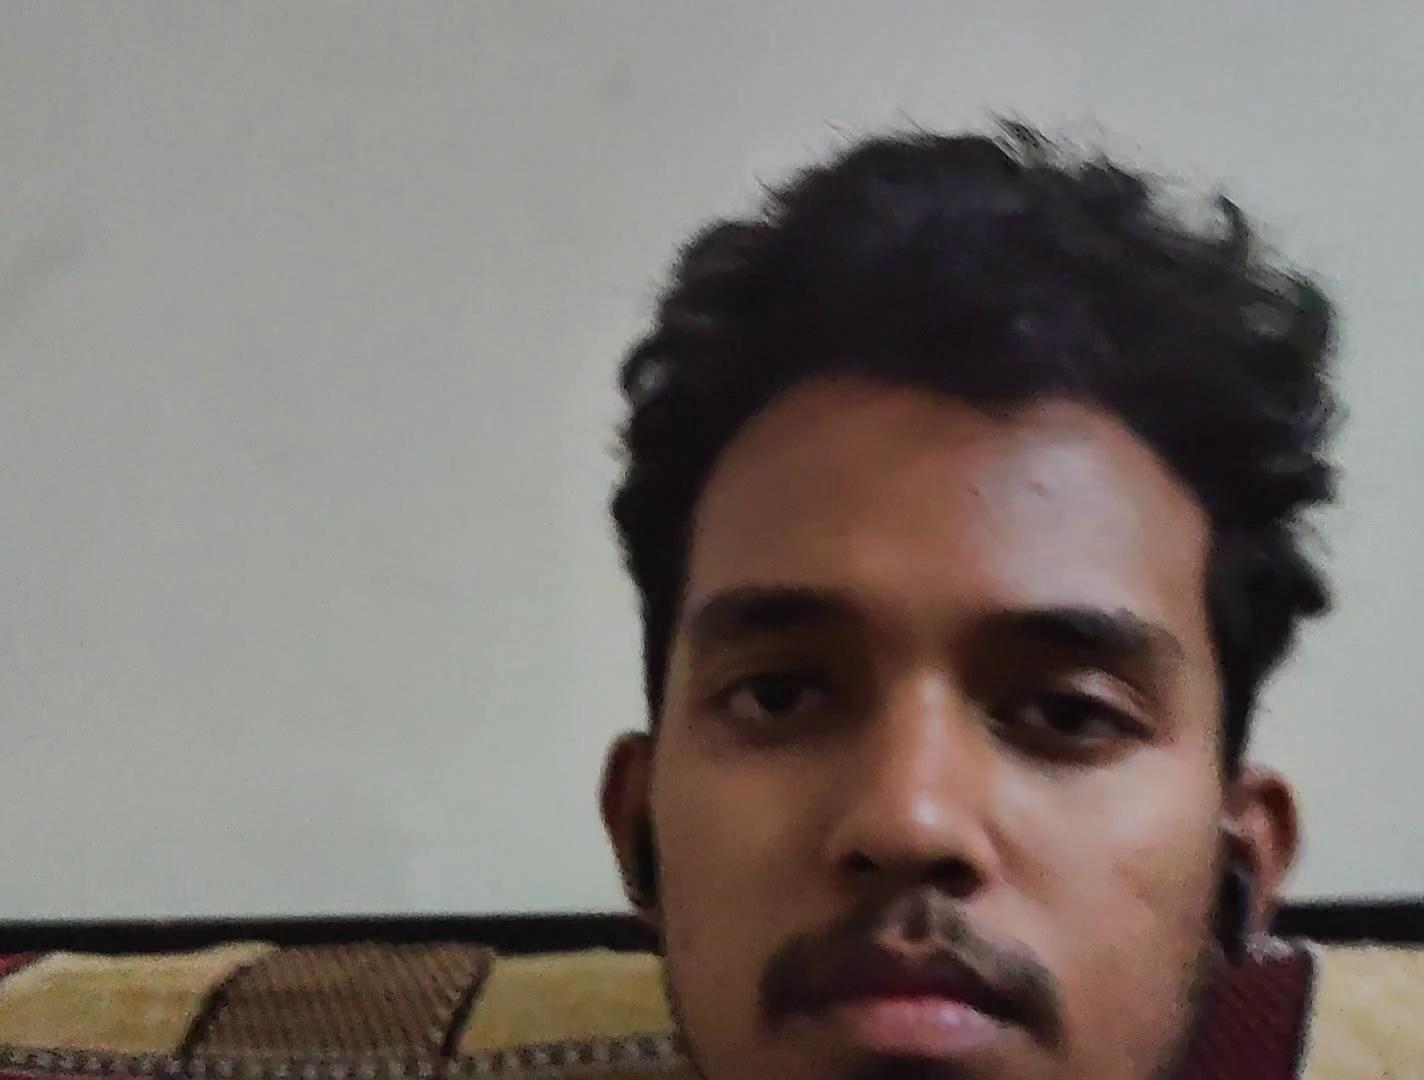face: (648, 383, 1227, 1078)
